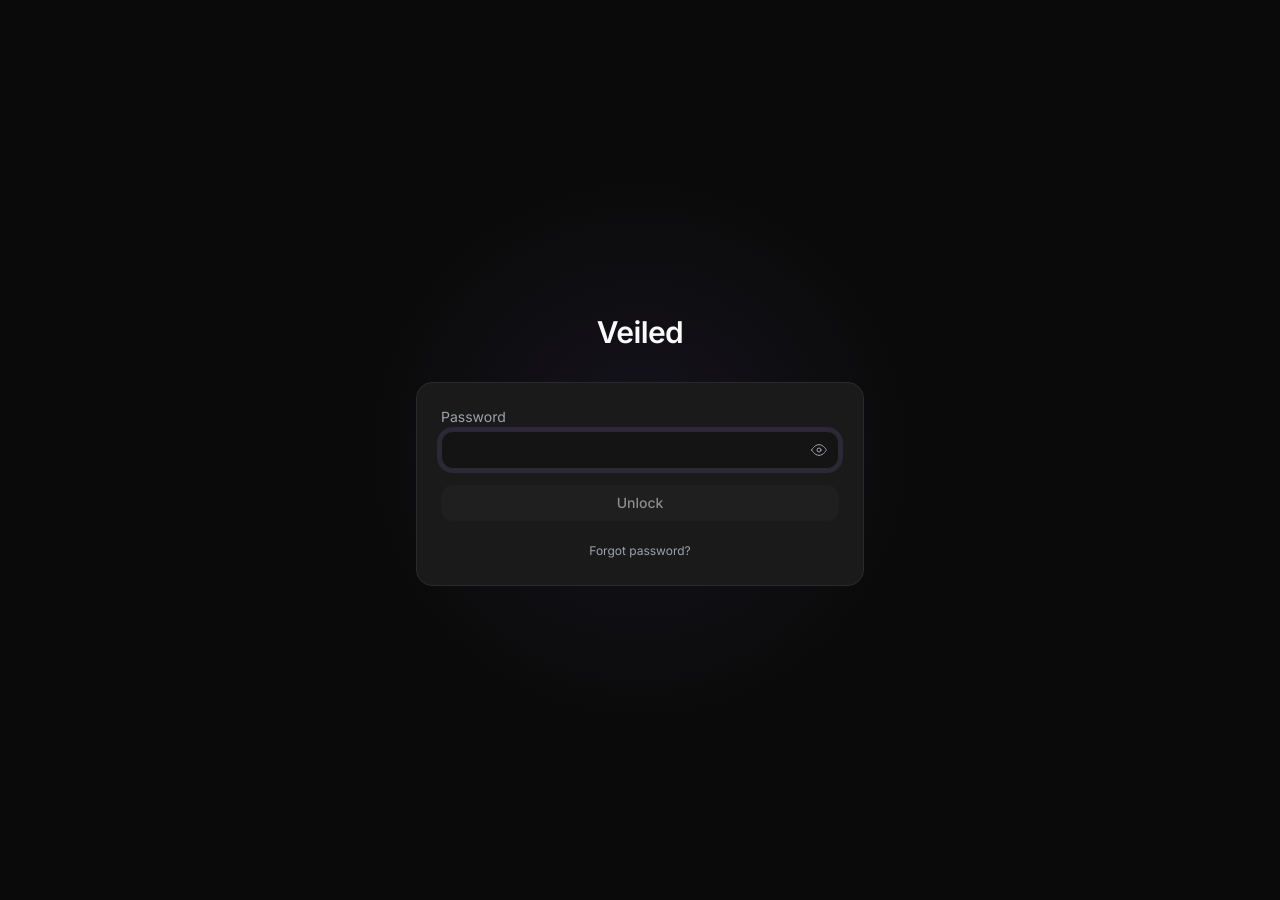
Test: WalletUnlock › shows delete confirmation when "Forgot password?" is clicked
Click the button "Forgot password?": (640, 551) x1=589 y1=543 x2=691 y2=559
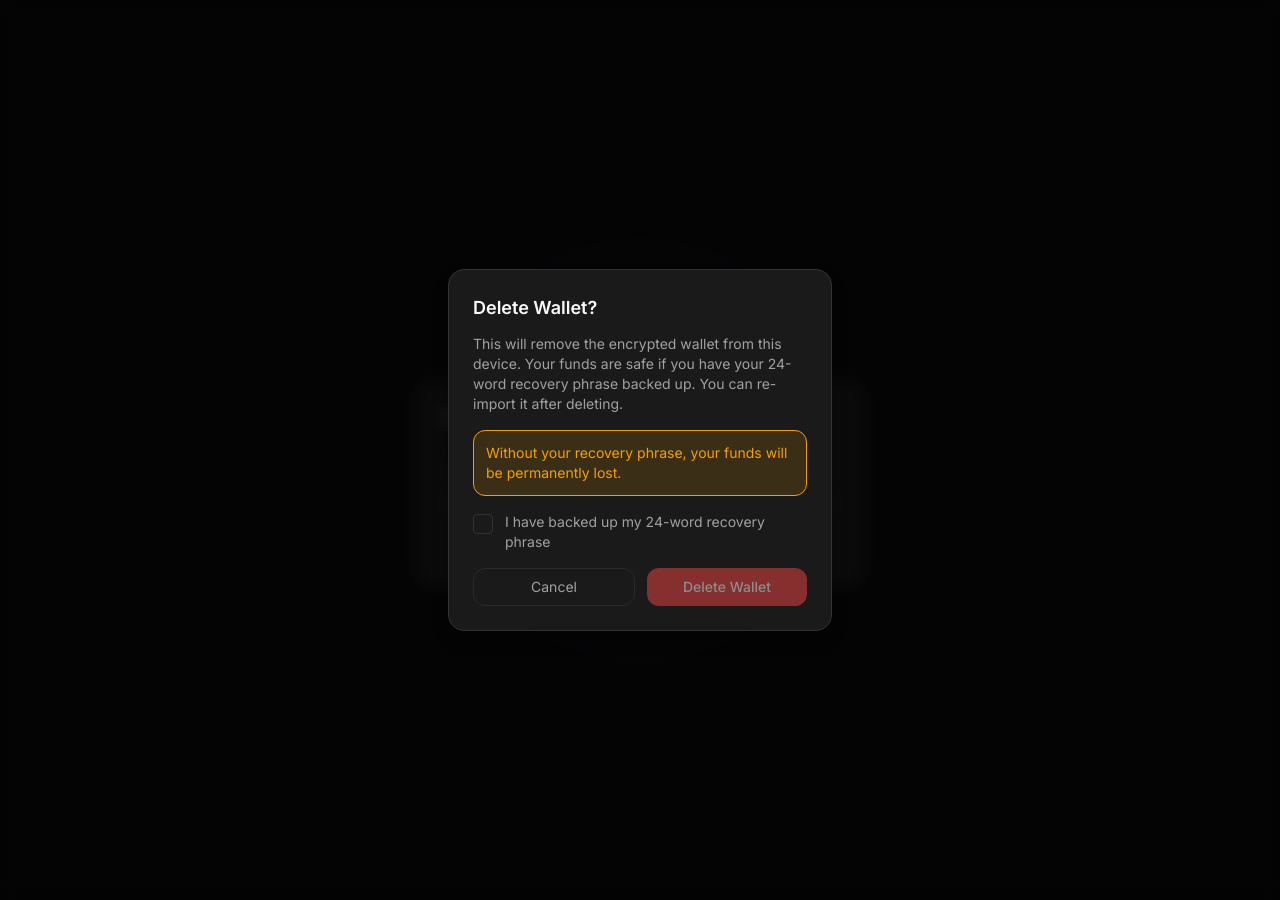
Now the heading "Delete Wallet?" is shown, box x1=473 y1=297 x2=597 y2=318
Now the button "Cancel" is shown, box x1=473 y1=568 x2=635 y2=606
Now the button "Delete Wallet" is shown, box x1=647 y1=568 x2=807 y2=606
